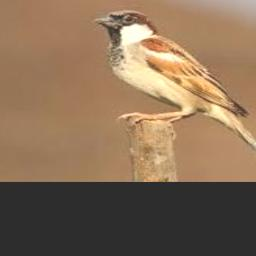Sparrow: (94, 10, 256, 165)
